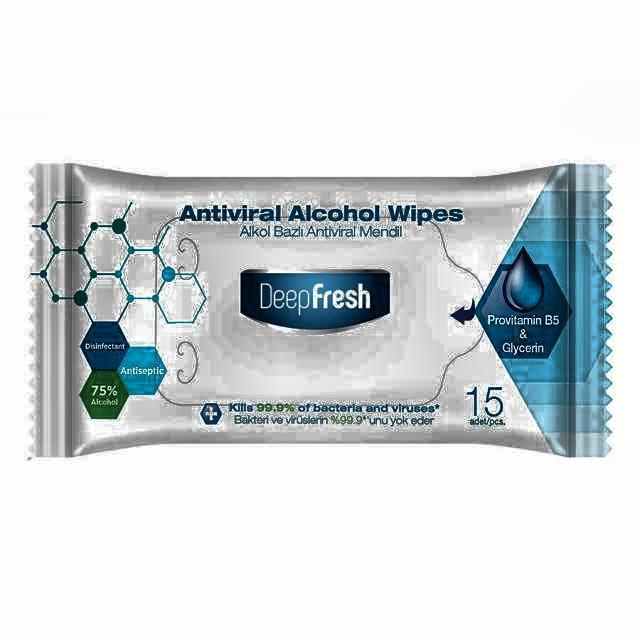plastic: (28, 162, 619, 465)
